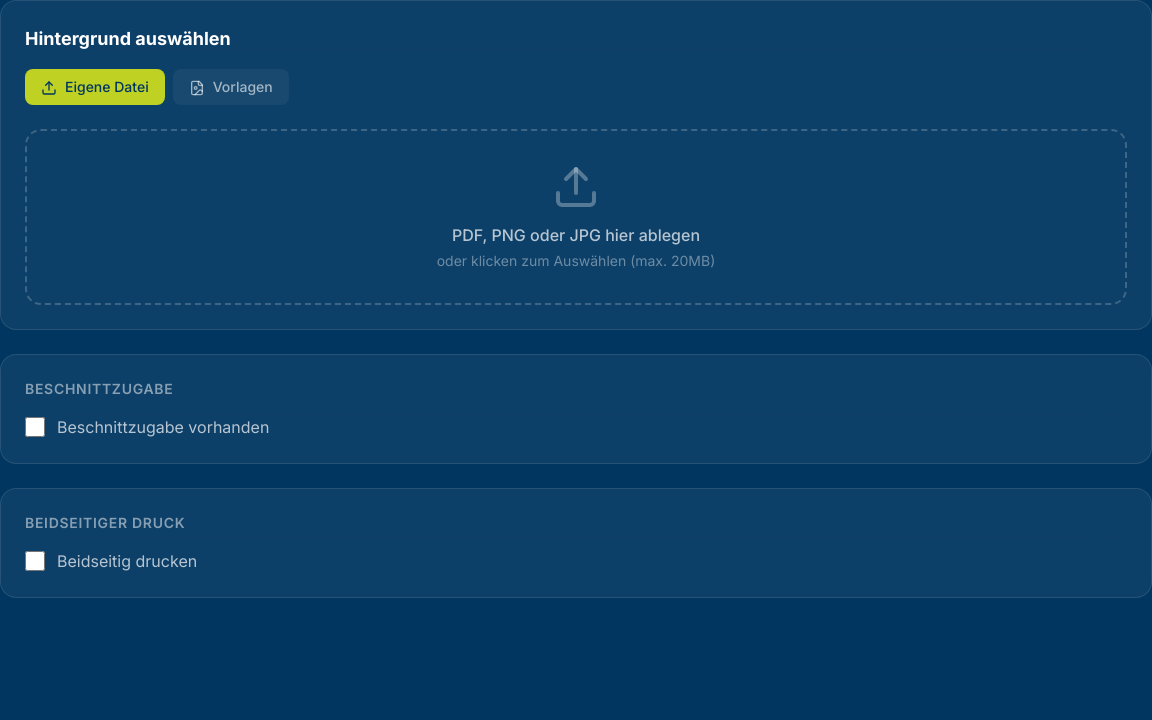
Test case: BackgroundSelector › zeigt Vorlagen-Tab
Click the button "Vorlagen": (231, 87) [173,69,289,105]
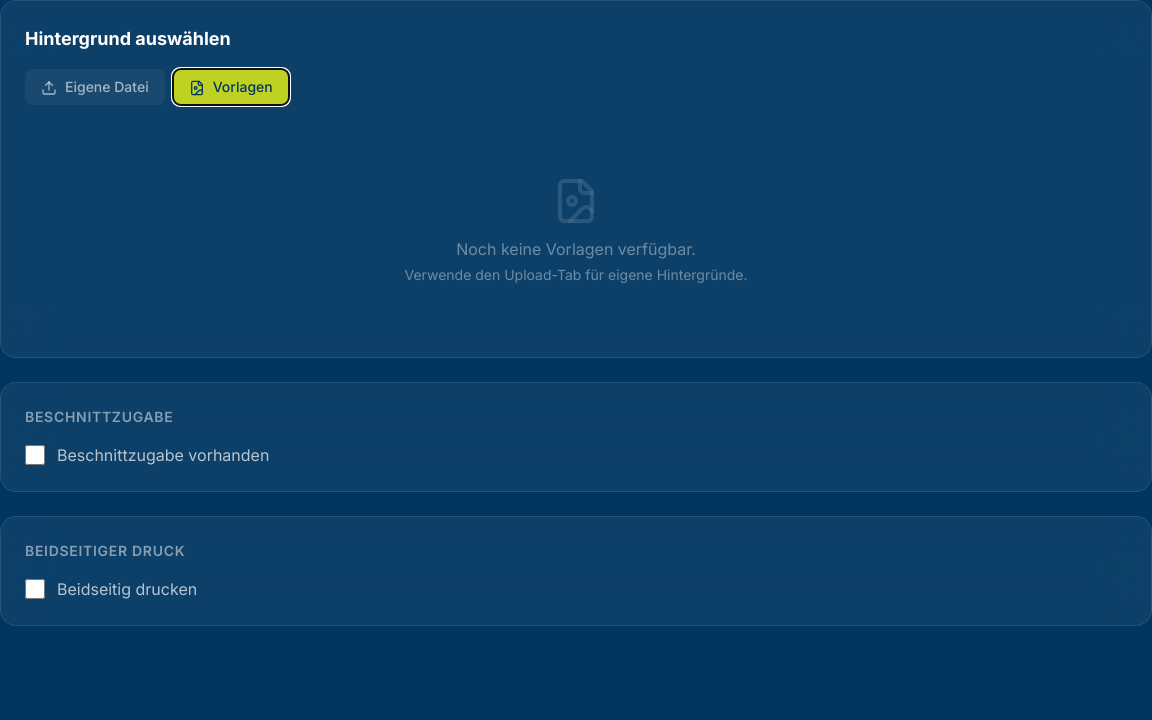
Result: the text "Noch keine Vorlagen verfügbar." is shown at [456,239,696,259]
